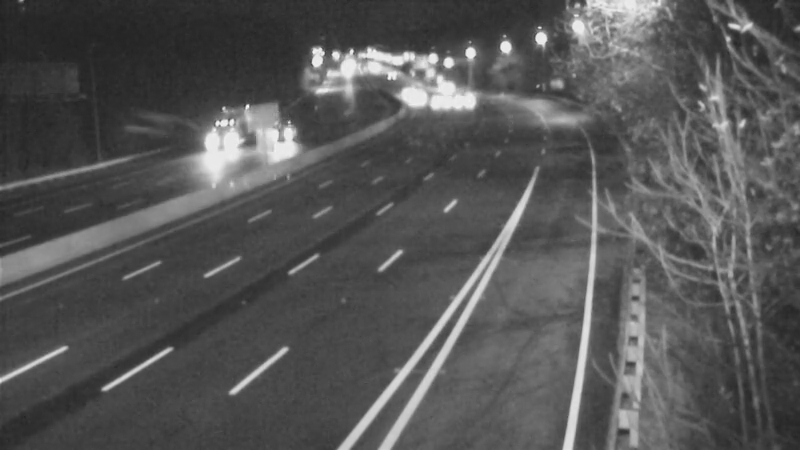vehicle: (364, 50, 414, 100), (416, 63, 466, 113), (390, 74, 440, 124), (437, 72, 487, 122), (412, 76, 462, 126), (189, 115, 239, 165), (254, 112, 304, 162)
